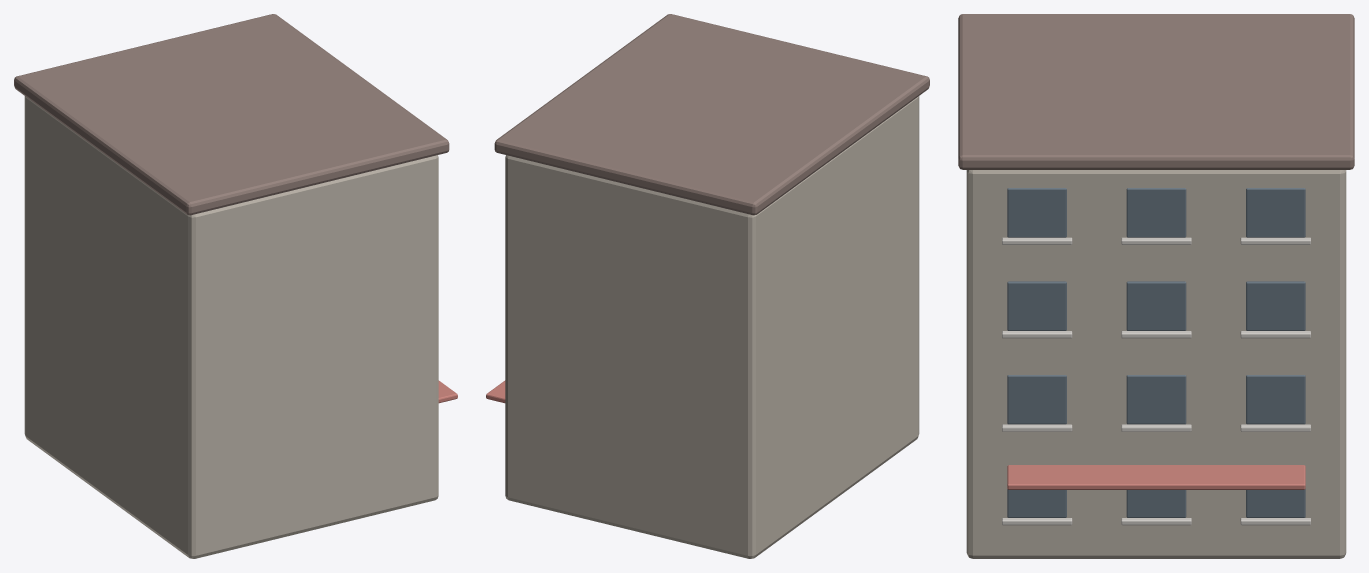
The model's file is apartment.glb.
The picture shows the model from 3 angles, left to right: view 1: azimuth 30°, elevation 25°; view 2: azimuth 150°, elevation 25°; view 3: azimuth 270°, elevation 25°; orthographic projection. The views are drawn at different scales.
Parts seen in each view (by area): view 1: apartment_Palette; view 2: apartment_Palette; view 3: apartment_Palette.
Boxes of the visible parts, x1,y1,x2,y2 form: apartment_Palette: (14,14,457,558); apartment_Palette: (486,14,929,558); apartment_Palette: (958,14,1354,558).
Bounding box in the file's own units: 7 × 8.3 × 7.3.
